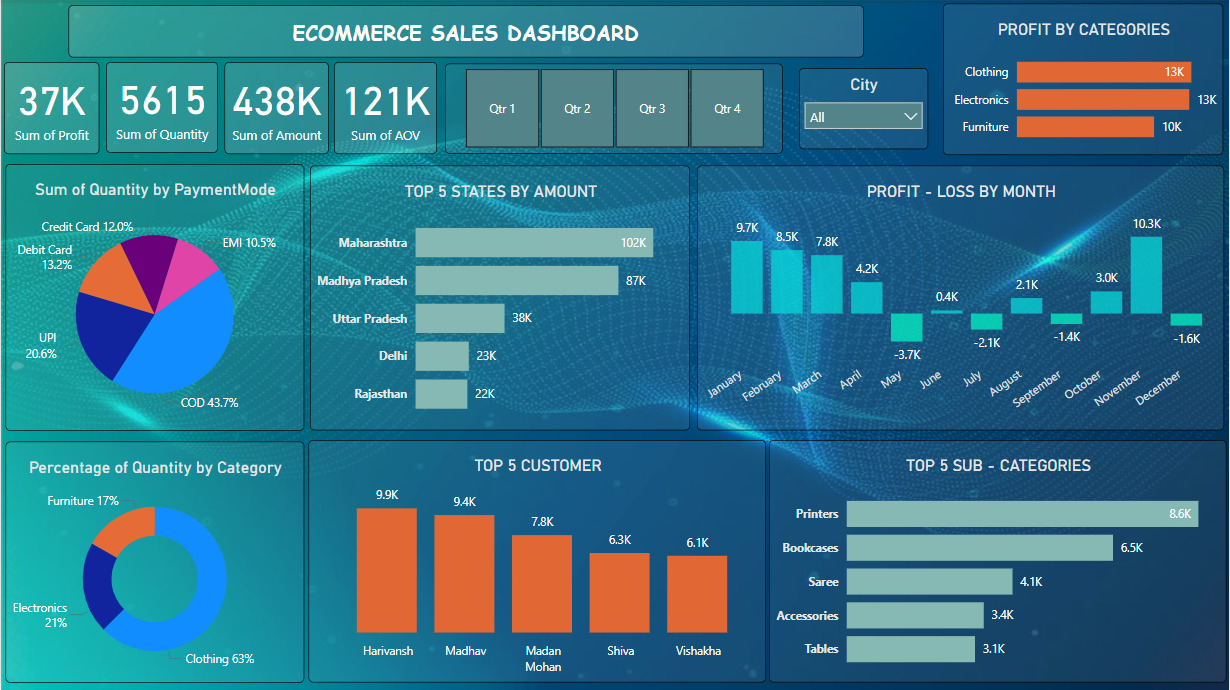

The dashboard page shown, as its layout file describes it:
{"tool":"powerbi","page":{"name":"Page 1","canvas":[1280,720],"ordinal":0},"visuals":[{"type":"textbox","box":[70.3,6.3,828.4,54.7],"z":0},{"type":"card","fields":{"Values":["Details.Profit"]},"box":[3.2,66.3,99.5,96.3],"z":1000},{"type":"card","fields":{"Values":["Details.Quantity"]},"box":[108.9,66.3,116.8,94.7],"z":2000},{"type":"card","fields":{"Values":["Details.Amount"]},"box":[232.1,66.3,108.9,96.3],"z":3000},{"type":"card","fields":{"Values":["Details.AvgQuantAmt"]},"box":[347.4,66.3,107.4,96.3],"z":4000},{"type":"clusteredColumnChart","title":"PROFIT - LOSS BY MONTH ","fields":{"Category":["Orders.Order Date.Variation.Date Hierarchy.Month"],"Y":["Details.Profit"]},"box":[724.7,173.7,549.5,276.3],"z":5000},{"type":"clusteredColumnChart","title":"TOP 5 CUSTOMER","fields":{"Category":["Orders.CustomerName"],"Y":["Details.Amount"]},"box":[320.5,459.5,476.8,252.6],"z":6000},{"type":"barChart","title":"TOP 5 SUB - CATEGORIES","fields":{"Category":["Details.Sub-Category"],"Y":["Details.Profit"]},"box":[800.5,459.5,476.8,252.6],"z":7000},{"type":"donutChart","title":"Percentage of Quantity by Category","fields":{"Category":["Details.Category"],"Y":["Details.Quantity"]},"box":[4.7,461.1,311.1,251.1],"z":8000},{"type":"pieChart","fields":{"Y":["Details.Quantity"],"Category":["Details.PaymentMode"]},"box":[4.7,172.1,311.1,277.9],"z":9000},{"type":"barChart","title":"TOP 5 STATES BY AMOUNT","fields":{"Y":["Details.Amount"],"Category":["Orders.State"]},"box":[322.1,173.7,396.3,276.3],"z":10000},{"type":"barChart","title":"PROFIT BY CATEGORIES ","fields":{"Category":["Details.Category"],"Y":["Details.Profit"]},"box":[982.1,4.7,292.1,157.9],"z":11000},{"type":"slicer","fields":{"Values":["Orders.Order Date.Variation.Date Hierarchy.Quarter"]},"box":[462.6,67.2,351.7,93.8],"z":12000},{"type":"slicer","title":"City","fields":{"Values":["Orders.City"]},"box":[831.5,71.9,134.4,84.4],"z":13000}]}

Visuals, with their boxes in screenshot pixels (x1, y1, x2, y2), scaled from the page's 1280x720 canvas onto the 1230x690 screenshot:
textbox: rect(68, 6, 864, 58)
card - Details.Profit: rect(3, 64, 99, 156)
card - Details.Quantity: rect(105, 64, 217, 154)
card - Details.Amount: rect(223, 64, 328, 156)
card - Details.AvgQuantAmt: rect(334, 64, 437, 156)
"PROFIT - LOSS BY MONTH " clusteredColumnChart: rect(696, 166, 1224, 431)
"TOP 5 CUSTOMER" clusteredColumnChart: rect(308, 440, 766, 682)
"TOP 5 SUB - CATEGORIES" barChart: rect(769, 440, 1227, 682)
"Percentage of Quantity by Category" donutChart: rect(5, 442, 303, 683)
pieChart - Details.Quantity x Details.PaymentMode: rect(5, 165, 303, 431)
"TOP 5 STATES BY AMOUNT" barChart: rect(310, 166, 690, 431)
"PROFIT BY CATEGORIES " barChart: rect(944, 5, 1224, 156)
slicer - Orders.Order Date.Variation.Date Hierarchy.Quarter: rect(445, 64, 782, 154)
"City" slicer: rect(799, 69, 928, 150)
